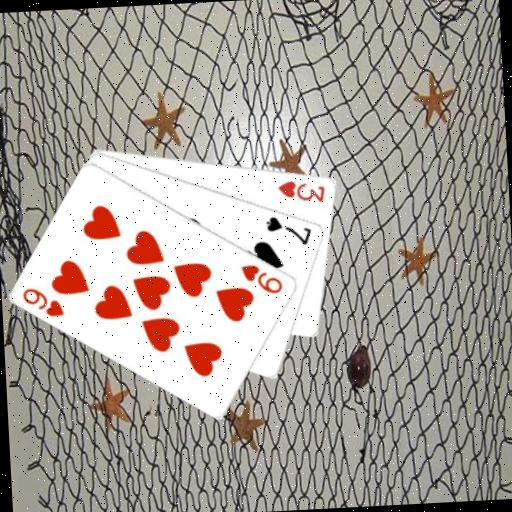3H: (275, 176, 327, 206)
7S: (263, 211, 315, 249)
9H: (238, 260, 285, 298), (19, 283, 66, 320)
